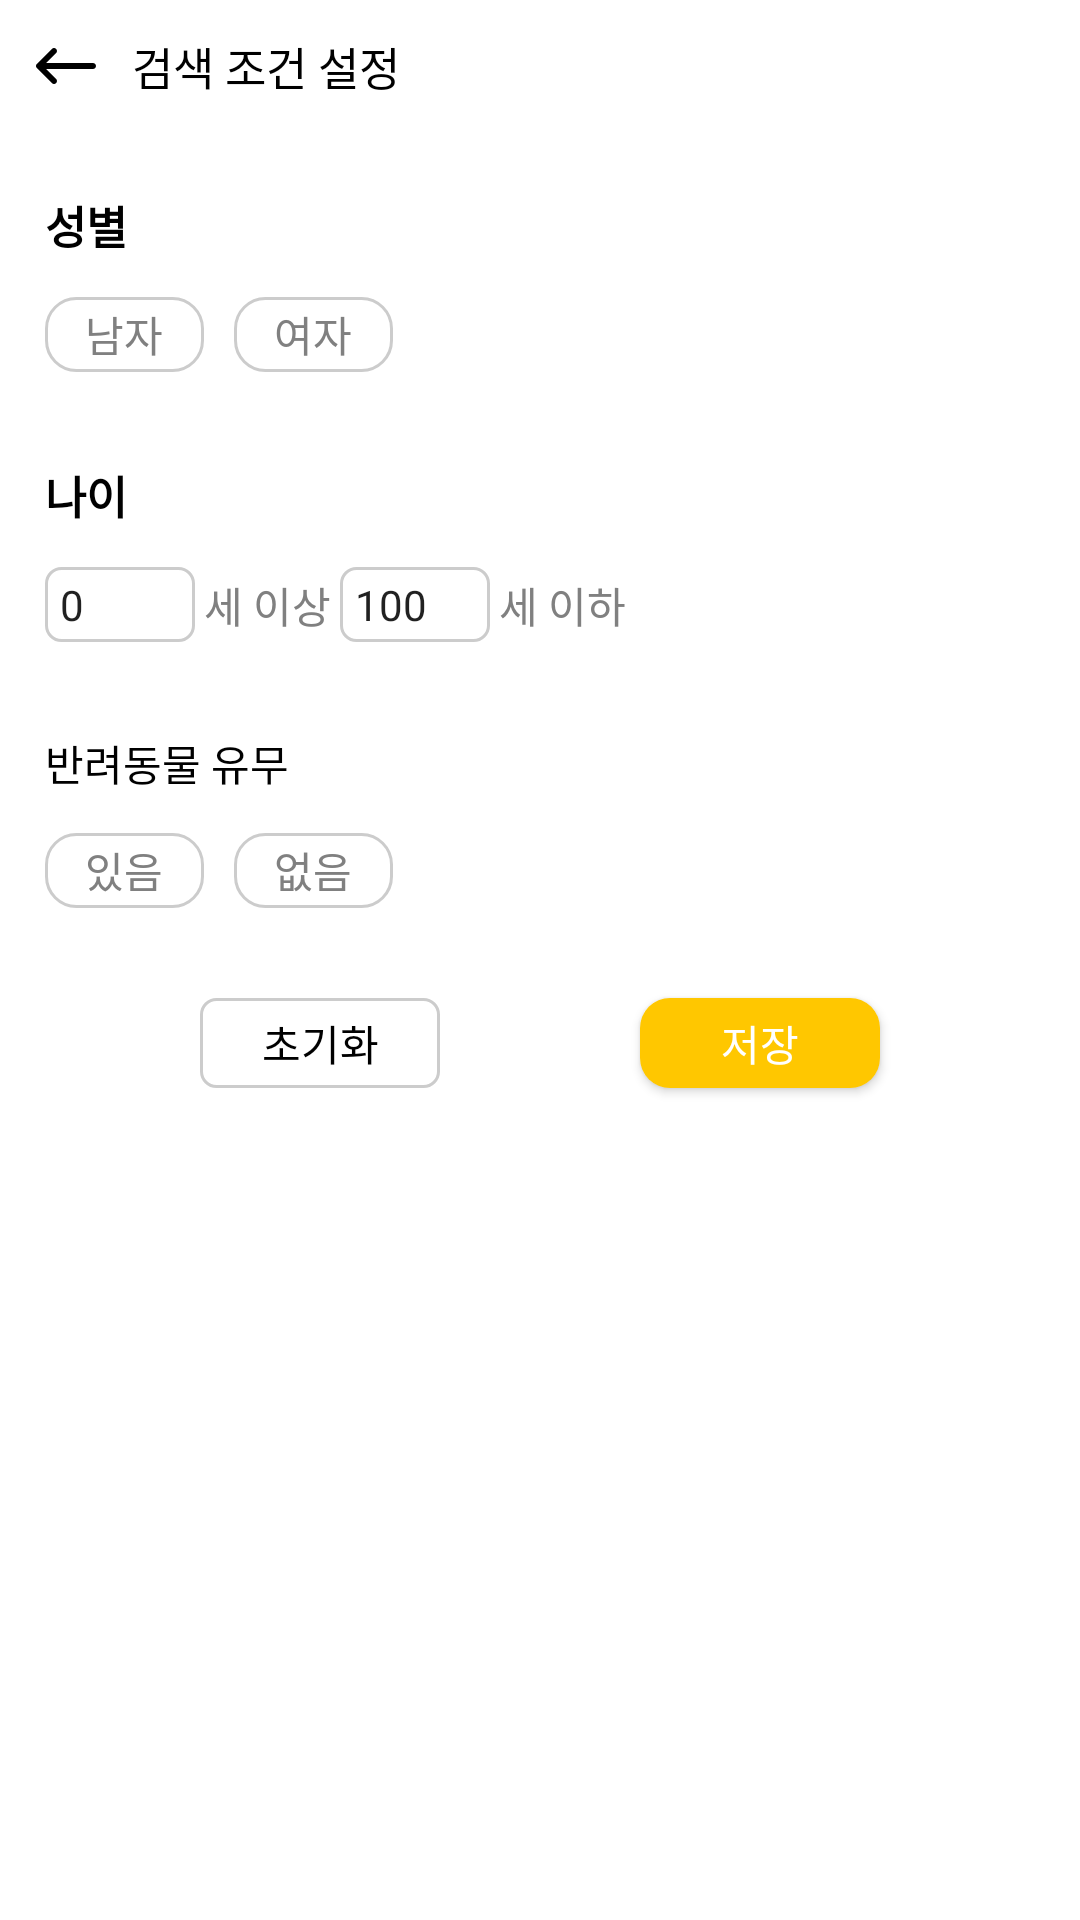

Screen size 1080 × 1920. Icon name, then its center in pixels as [x,y]:
back: [66,66]
